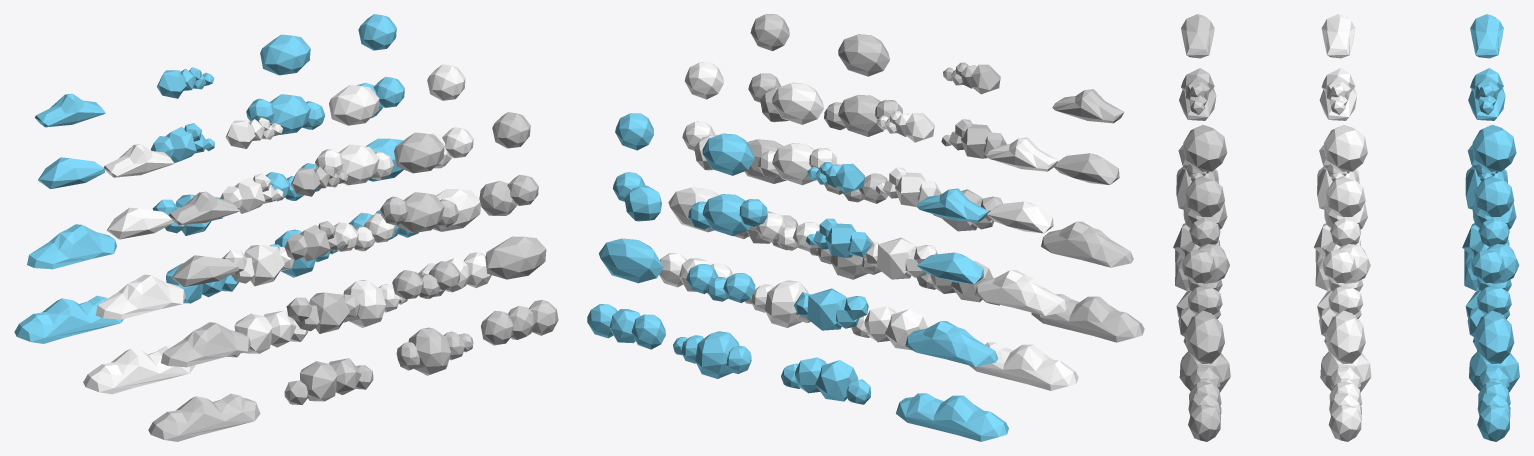
The model's file is clouds_pack.fbx.
3 renders of one model, left to right at view 1: azimuth 30°, elevation 25°; view 2: azimuth 150°, elevation 25°; view 3: azimuth 270°, elevation 25°, orthographic. The views are drawn at different scales.
Parts seen in each view (by area): view 1: cloud_7, cloud_7_3, cloud_7_2, cloud_6, cloud_3, cloud_3_3, cloud_3_2, cloud_12, cloud_10, cloud_16, cloud_4, cloud_10_3 (+35 smaller); view 2: cloud_7_3, cloud_7_2, cloud_7, cloud_6_3, cloud_3, cloud_3_3, cloud_3_2, cloud_12_3, cloud_10_3, cloud_16_3, cloud_4_3, cloud_10_2 (+35 smaller); view 3: cloud_16_2, cloud_16, cloud_16_3, cloud_15_2, cloud_15, cloud_15_3, cloud_9_3, cloud_9, cloud_9_2, cloud_14_3, cloud_14, cloud_14_2 (+33 smaller).
Part boxes in pixels (x1=…): cloud_7: x1=148, y1=393, x2=260, y2=441; cloud_7_3: x1=14, y1=295, x2=123, y2=343; cloud_7_2: x1=83, y1=346, x2=195, y2=394; cloud_6: x1=284, y1=358, x2=373, y2=405; cloud_3: x1=161, y1=322, x2=250, y2=367; cloud_3_3: x1=27, y1=224, x2=116, y2=269; cloud_3_2: x1=95, y1=274, x2=185, y2=319; cloud_12: x1=396, y1=327, x2=473, y2=375; cloud_10: x1=380, y1=192, x2=458, y2=232; cloud_16: x1=481, y1=299, x2=558, y2=345; cloud_4: x1=286, y1=292, x2=360, y2=333; cloud_10_3: x1=246, y1=94, x2=325, y2=134; cloud_7_3: x1=896, y1=393, x2=1008, y2=441; cloud_7_2: x1=969, y1=342, x2=1078, y2=390; cloud_7: x1=1031, y1=294, x2=1144, y2=342; cloud_6_3: x1=781, y1=357, x2=870, y2=404; cloud_3: x1=1041, y1=221, x2=1133, y2=267; cloud_3_3: x1=905, y1=321, x2=998, y2=366; cloud_3_2: x1=975, y1=270, x2=1067, y2=315; cloud_12_3: x1=673, y1=331, x2=751, y2=378; cloud_10_3: x1=688, y1=194, x2=767, y2=236; cloud_16_3: x1=587, y1=304, x2=665, y2=349; cloud_4_3: x1=794, y1=288, x2=868, y2=330; cloud_10_2: x1=758, y1=143, x2=837, y2=185; cloud_16_2: x1=1328, y1=381, x2=1361, y2=441; cloud_16: x1=1188, y1=381, x2=1221, y2=441; cloud_16_3: x1=1477, y1=381, x2=1510, y2=441; cloud_15_2: x1=1326, y1=310, x2=1365, y2=363; cloud_15: x1=1185, y1=310, x2=1224, y2=363; cloud_15_3: x1=1474, y1=310, x2=1514, y2=363; cloud_9_3: x1=1472, y1=125, x2=1516, y2=171; cloud_9: x1=1183, y1=125, x2=1227, y2=171; cloud_9_2: x1=1324, y1=124, x2=1367, y2=171; cloud_14_3: x1=1471, y1=244, x2=1519, y2=283; cloud_14: x1=1182, y1=244, x2=1229, y2=283; cloud_14_2: x1=1323, y1=244, x2=1370, y2=283.
Size of the model in its own units: 1133 by 635 by 770.
